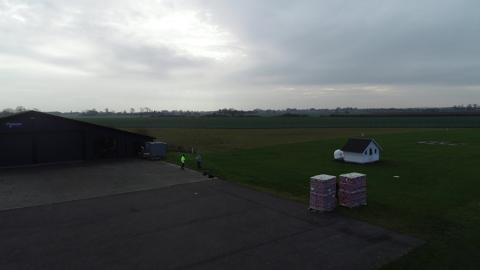RockwoolPallet: (337, 169, 368, 209)
